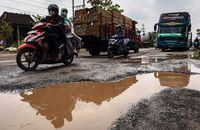Pothole: (0, 52, 198, 130)
